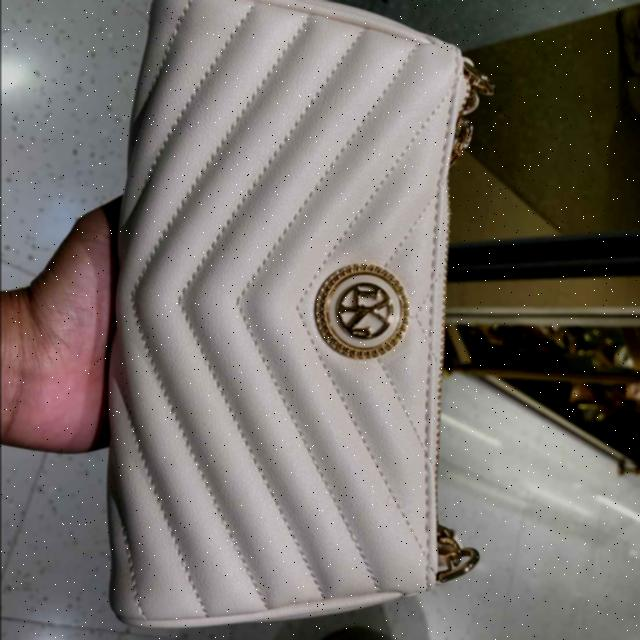Handbag: (70, 0, 526, 640)
